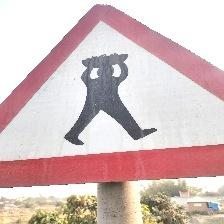Market-in-front: (1, 2, 222, 186)
